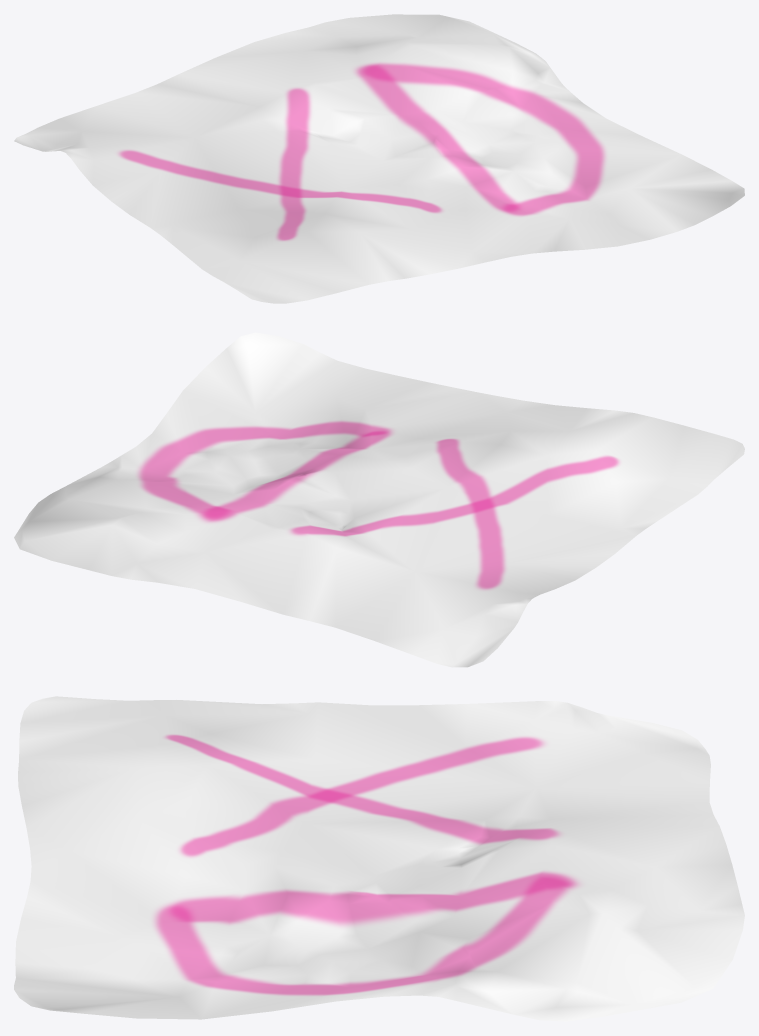
The model's file is GroundTexture2.obj.
The picture shows the model from 3 angles, top to bottom: view 1: azimuth 30°, elevation 25°; view 2: azimuth 150°, elevation 25°; view 3: azimuth 270°, elevation 25°; orthographic projection. The views are drawn at different scales.
Visible parts, largest first — view 1: Plane; view 2: Plane; view 3: Plane.
Boxes of the visible parts, x1,y1,x2,y2 form: Plane: (14,14,744,303); Plane: (14,332,744,667); Plane: (14,696,744,1021).
Bounding box in the file's own units: 25.34 × 2.15 × 25.47.
Materials: 1 (1 with a texture image).
